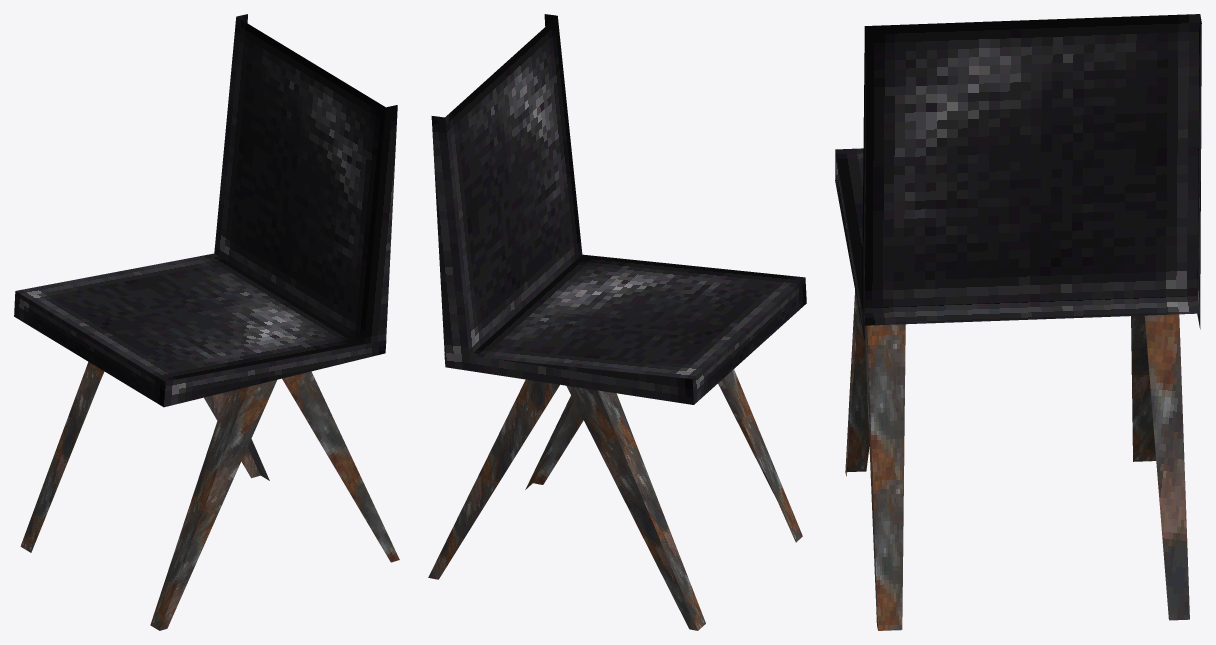
File: primary_23.glb
3 renders of one model, left to right at view 1: azimuth 30°, elevation 25°; view 2: azimuth 150°, elevation 25°; view 3: azimuth 270°, elevation 25°, orthographic. The views are drawn at different scales.
Visible parts, largest first — view 1: Object; view 2: Object; view 3: Object.
Boxes of the visible parts, x1=… form: Object: x1=14, y1=14, x2=399, y2=630; Object: x1=428, y1=14, x2=806, y2=630; Object: x1=835, y1=14, x2=1201, y2=630.
Bounding box in the file's own units: 0.7139 × 1.16 × 0.6479.
2 materials, 2 textured.
